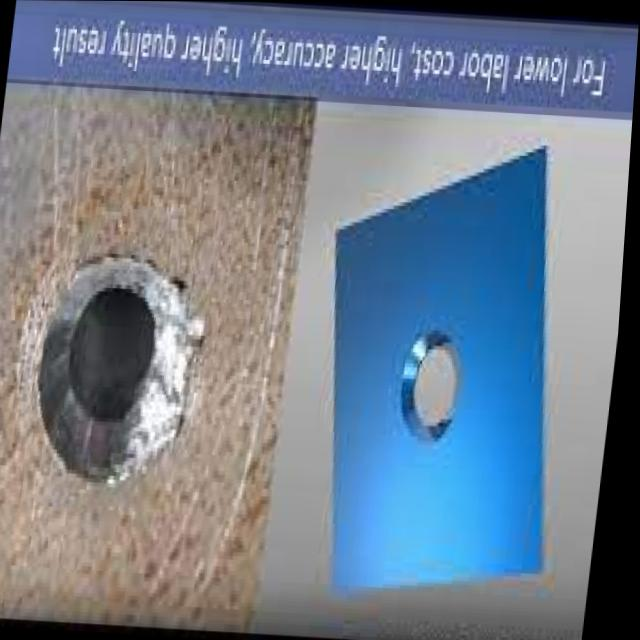holes: (32, 254, 217, 495), (402, 332, 473, 446)
